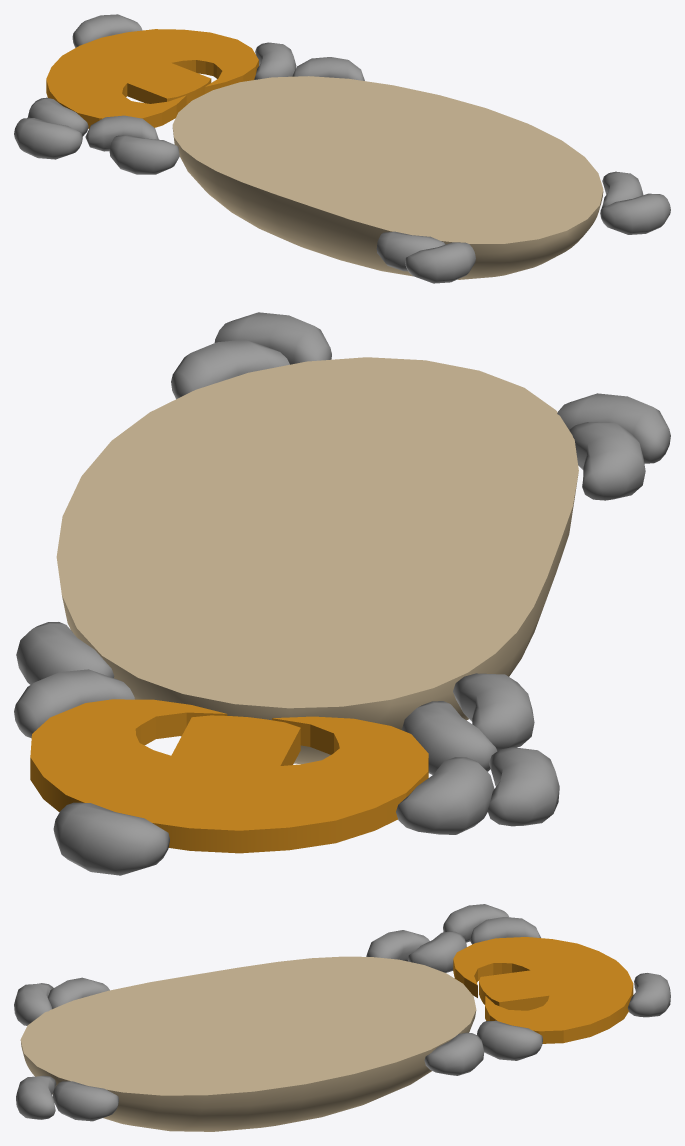
The model's file is plateformetest.FBX.
3 renders of one model, top to bottom at view 1: azimuth 30°, elevation 25°; view 2: azimuth 150°, elevation 25°; view 3: azimuth 270°, elevation 25°, orthographic. The views are drawn at different scales.
Parts seen in each view (by area): view 1: Sphere013; view 2: Sphere013; view 3: Sphere013.
Part boxes in pixels (x1,y1,x2,y2): Sphere013: (14, 14, 670, 283); Sphere013: (14, 312, 670, 875); Sphere013: (14, 904, 670, 1131).
Bounding box in the file's own units: 32.02 × 6.82 × 44.54.
